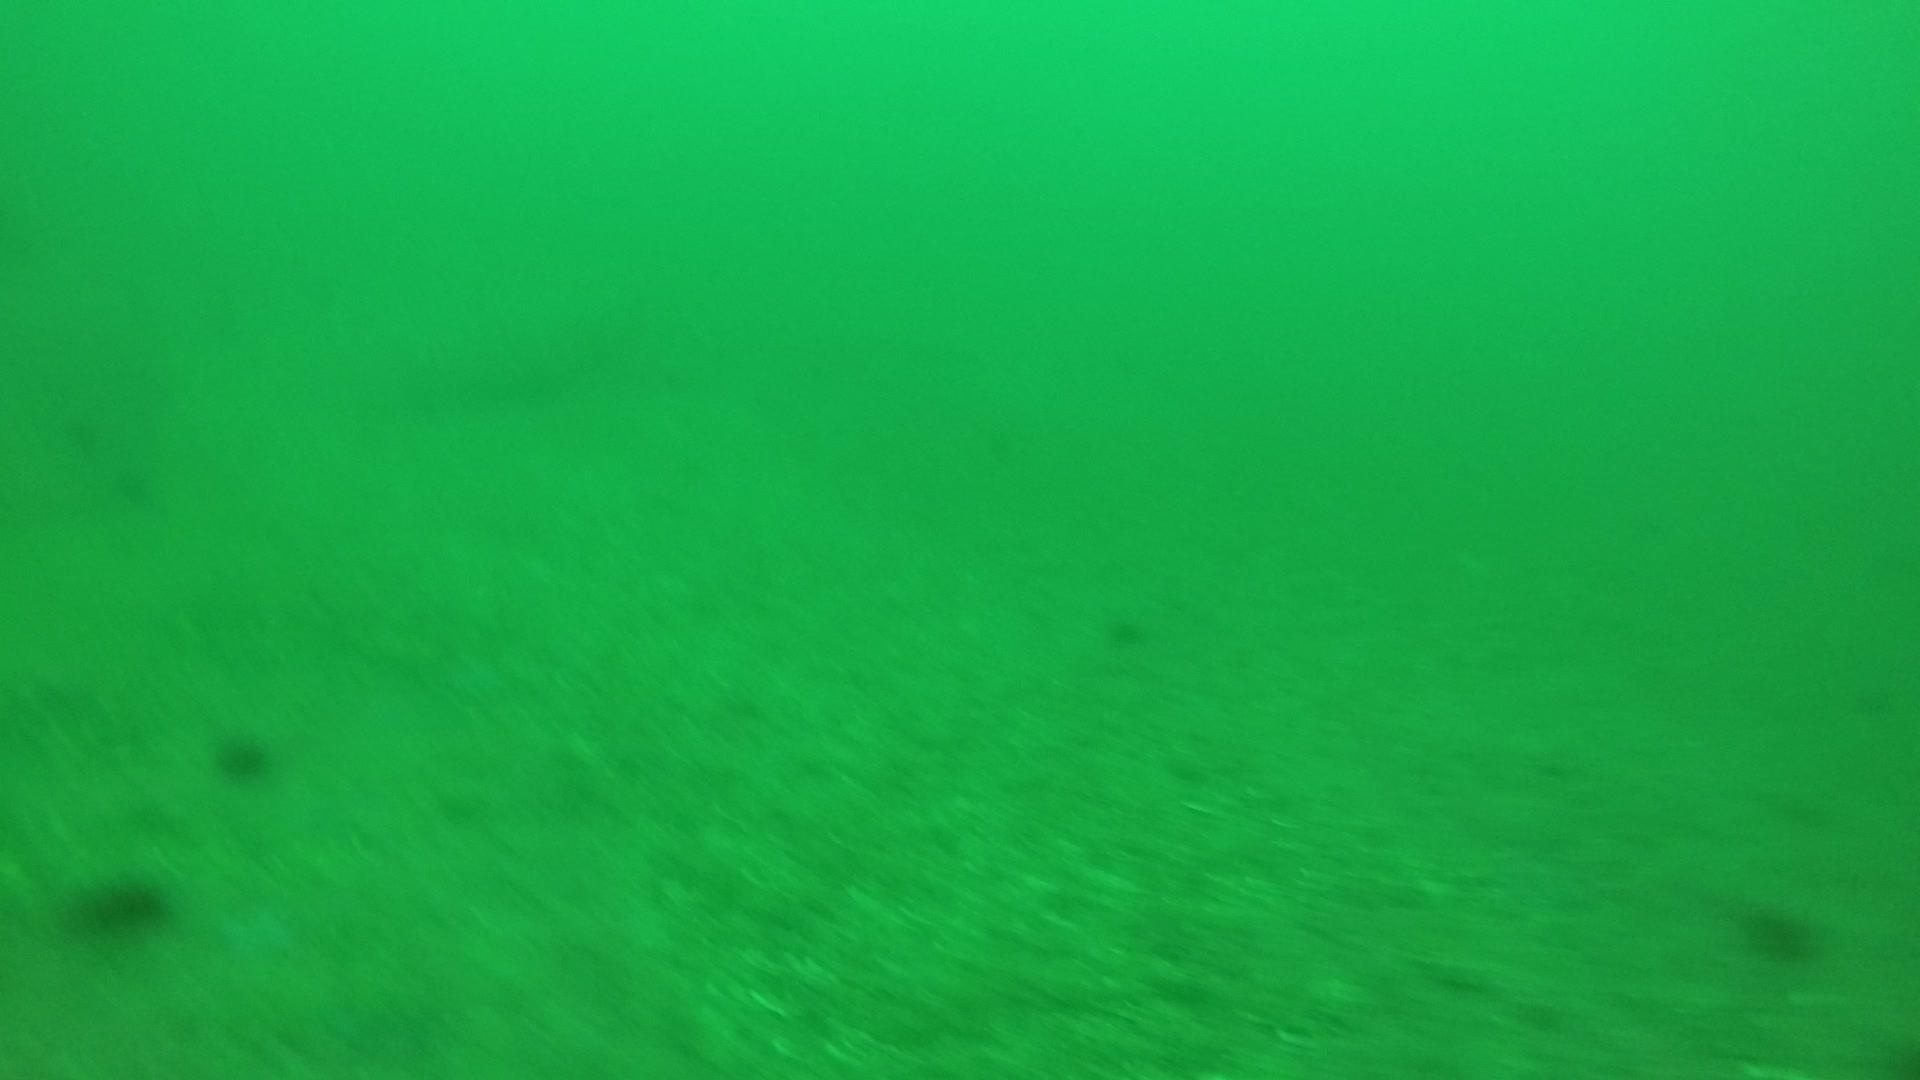echinus: (67, 866, 171, 942), (1737, 897, 1822, 967), (208, 724, 277, 785), (1098, 605, 1153, 651)
starfish: (218, 895, 299, 967)
